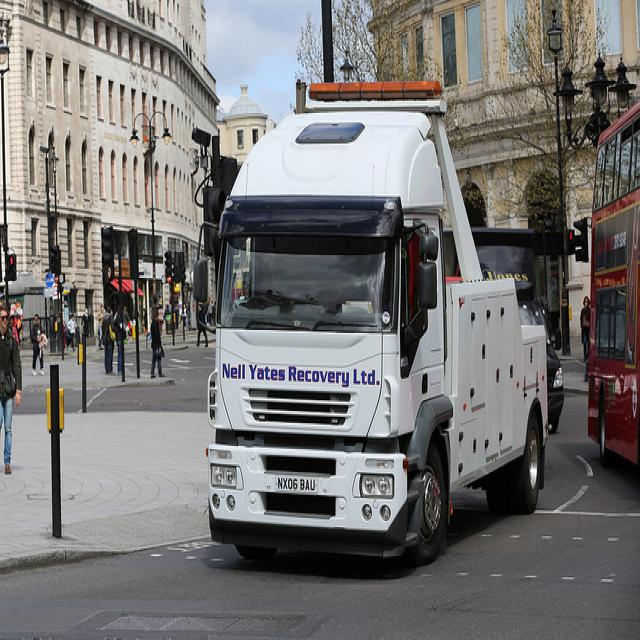Vehicle: (182, 79, 552, 558), (587, 97, 640, 470)
